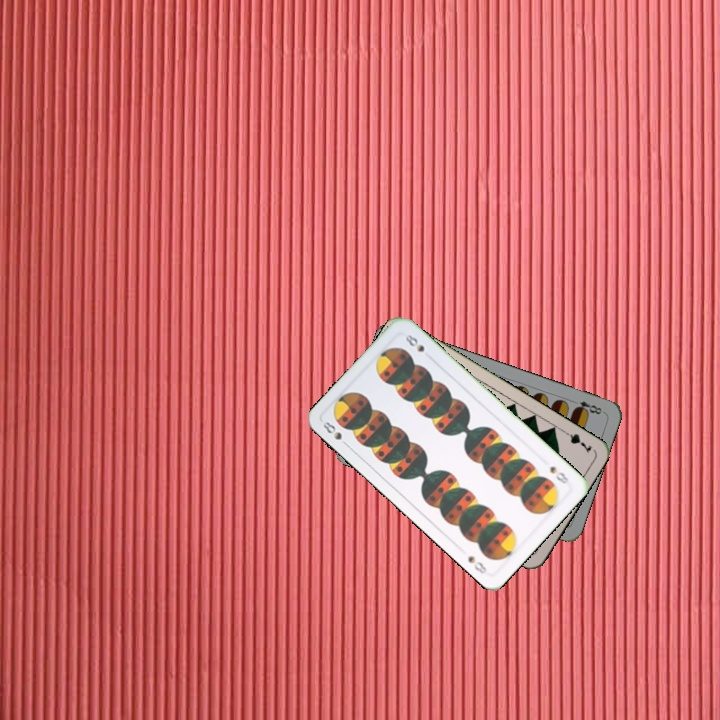E8: (570, 397, 606, 417)
G7: (558, 426, 595, 455)
S8: (319, 418, 352, 450), (546, 462, 573, 486)
